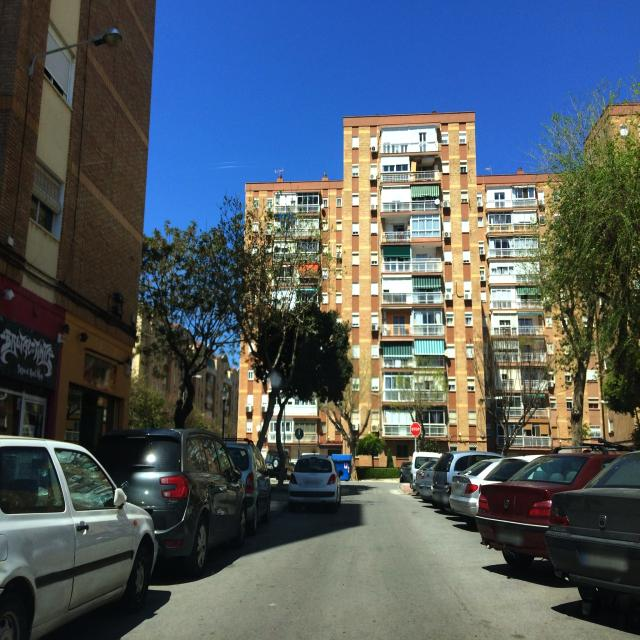car: (0, 434, 158, 640), (91, 426, 247, 577), (476, 448, 630, 571), (545, 447, 640, 625), (448, 456, 546, 530), (222, 438, 272, 534), (432, 451, 502, 512), (287, 453, 342, 512), (409, 450, 442, 492), (418, 460, 440, 500), (330, 454, 354, 481), (399, 461, 411, 483)
